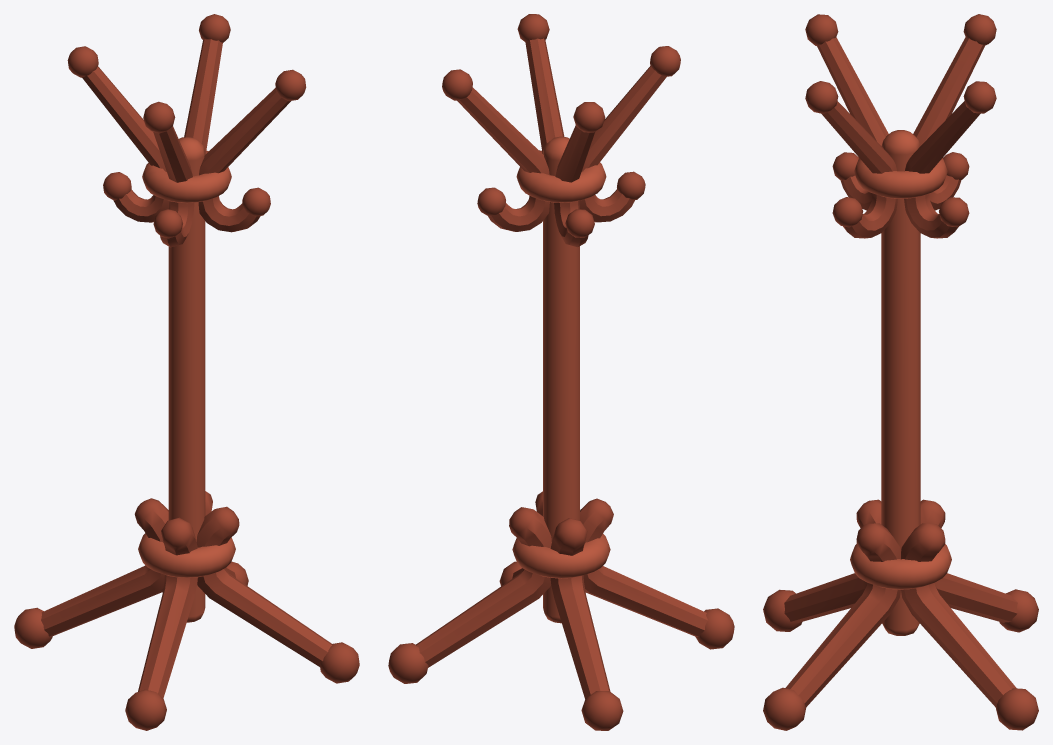
The model's file is cabideiro_natal_madeira_pacote.glb.
3 renders of one model, left to right at view 1: azimuth 30°, elevation 25°; view 2: azimuth 150°, elevation 25°; view 3: azimuth 270°, elevation 25°, orthographic. The views are drawn at different scales.
Parts seen in each view (by area): view 1: cabideiro_natal_madeira_pacote; view 2: cabideiro_natal_madeira_pacote; view 3: cabideiro_natal_madeira_pacote.
Part boxes in pixels (left/top/right/bottom): cabideiro_natal_madeira_pacote: left=14, top=14, right=359, bottom=730; cabideiro_natal_madeira_pacote: left=388, top=14, right=734, bottom=730; cabideiro_natal_madeira_pacote: left=763, top=14, right=1038, bottom=730.
Bounding box in the file's own units: 0.7037 × 1.78 × 0.7037.
Materials: 1 (1 with a texture image).
